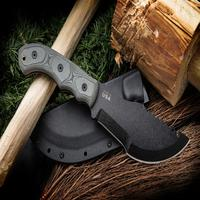knife: (13, 34, 189, 159)
